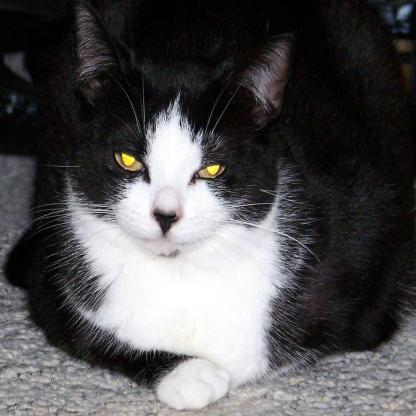cat: (31, 0, 371, 394)
